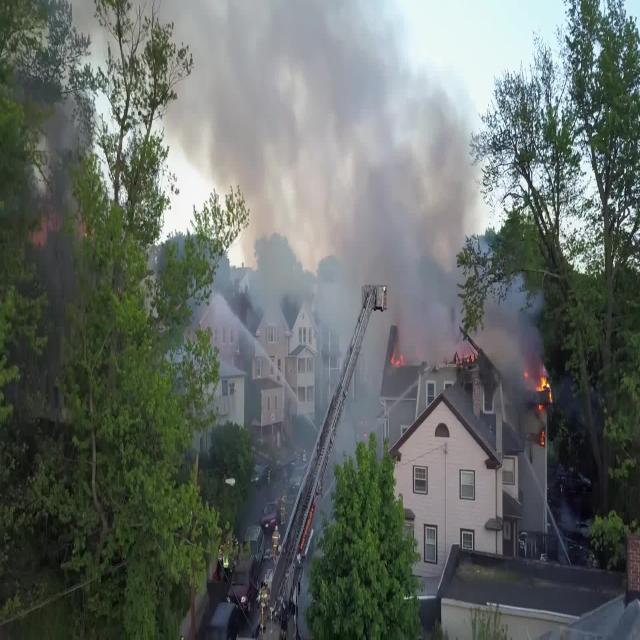Fire: (524, 363, 554, 437), (384, 346, 406, 377), (454, 345, 478, 369)
Smoke: (68, 0, 562, 454)
